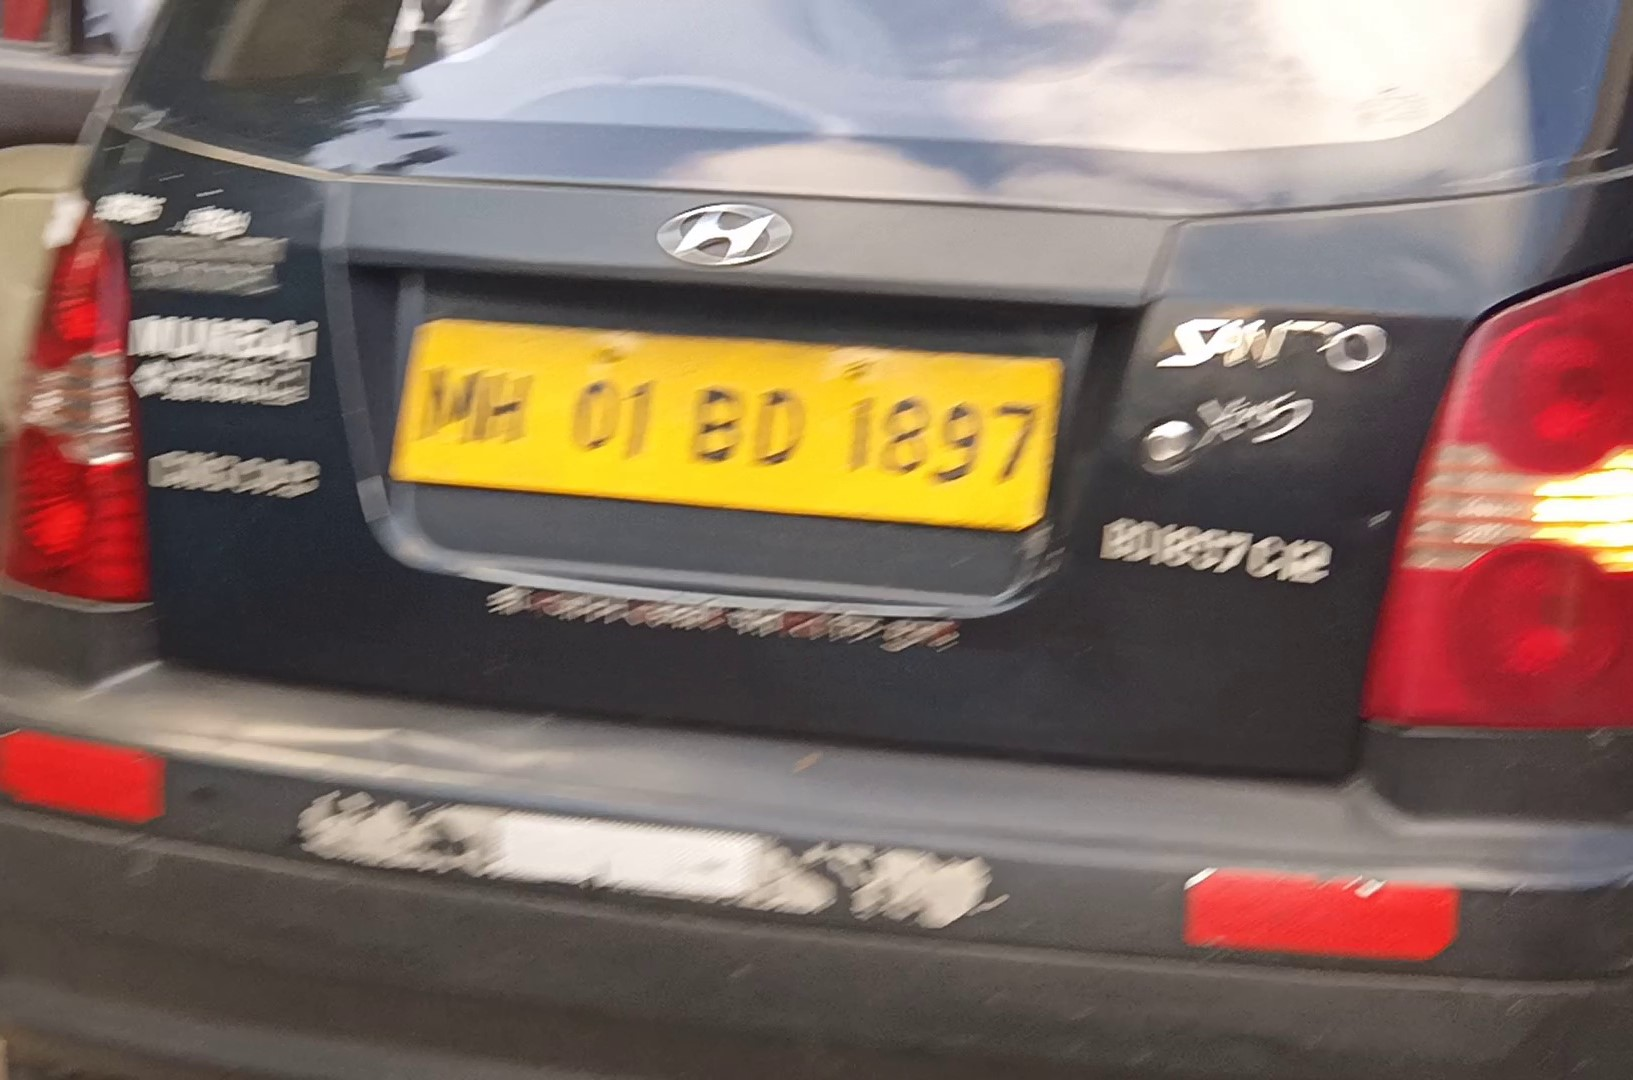MH01BD1897: (394, 313, 1063, 531)
